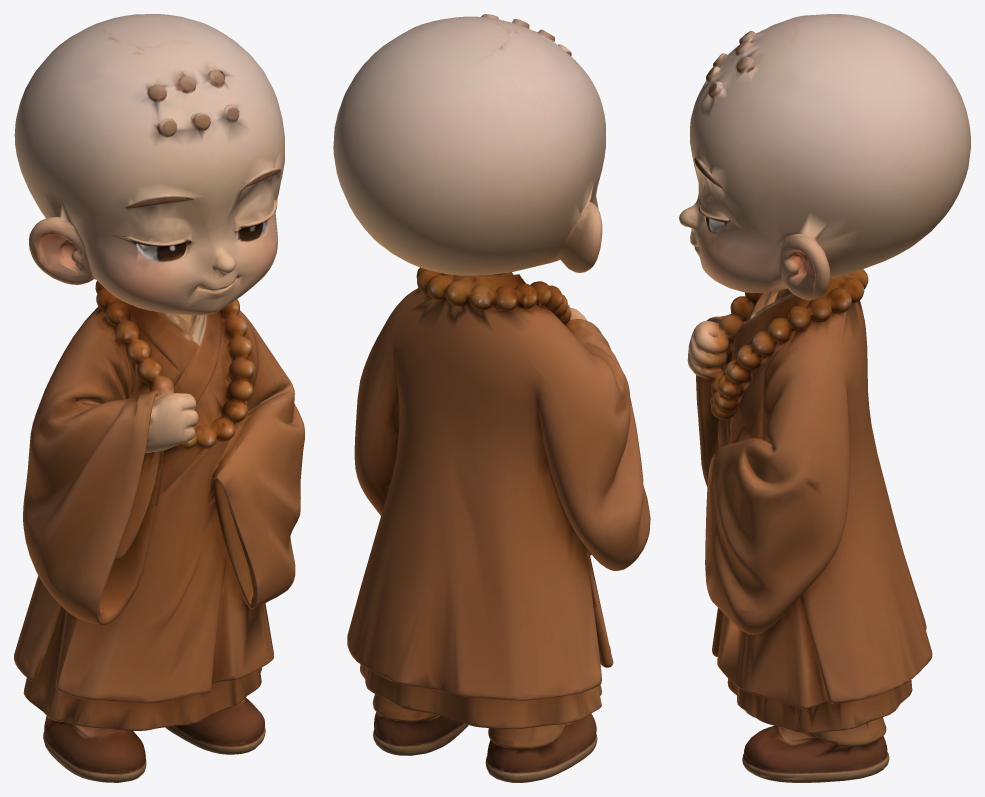
The model's file is monk-stand.glb.
3 views of the same model, side by side, from view 1: azimuth 30°, elevation 25°; view 2: azimuth 150°, elevation 25°; view 3: azimuth 270°, elevation 25° (orthographic).
Visible parts, largest first — view 1: node_0; view 2: node_0; view 3: node_0.
Boxes of the visible parts, x1=… form: node_0: x1=14, y1=14, x2=304, y2=782; node_0: x1=333, y1=14, x2=650, y2=782; node_0: x1=679, y1=14, x2=970, y2=782.
Size of the model in its own units: 0.393 by 0.9998 by 0.3708.
Materials: 1 (1 with a texture image).
